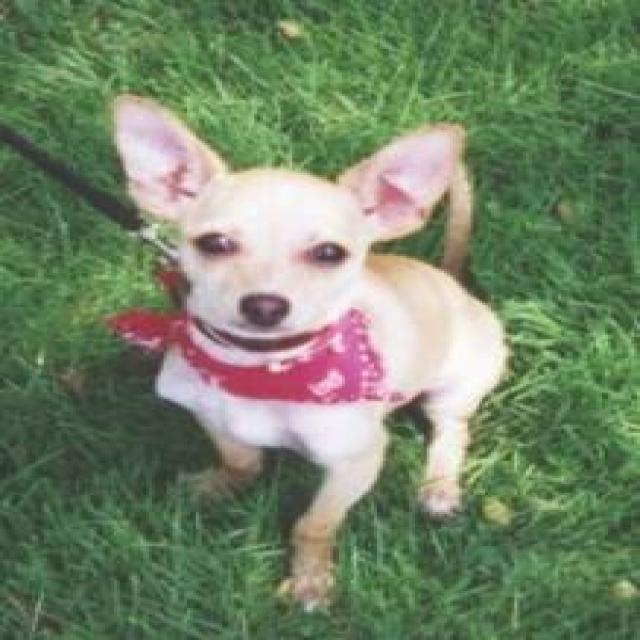dog-chihuahua: (105, 83, 511, 617)
